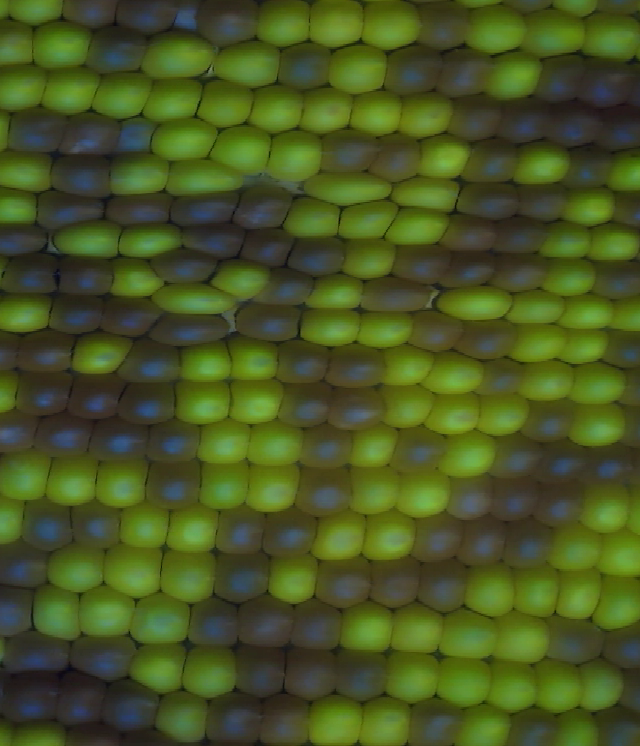fluorescent: (138, 31, 218, 80), (126, 639, 194, 695), (128, 591, 194, 647), (88, 69, 158, 121), (518, 7, 587, 59), (43, 543, 111, 595), (306, 507, 371, 561), (213, 39, 282, 89), (102, 544, 165, 598), (77, 586, 140, 639), (307, 692, 368, 746), (327, 41, 387, 95), (165, 156, 246, 196), (463, 6, 529, 55), (358, 1, 422, 51), (413, 132, 476, 182), (30, 22, 93, 72), (208, 254, 275, 301), (391, 600, 445, 658), (150, 281, 242, 315), (160, 552, 220, 604), (335, 601, 395, 653), (483, 49, 540, 103), (532, 656, 585, 714), (38, 66, 99, 116), (302, 170, 397, 202), (150, 119, 220, 162), (52, 220, 129, 259), (194, 419, 256, 467), (435, 652, 489, 707), (0, 448, 53, 504), (29, 588, 85, 641), (443, 609, 499, 662), (173, 378, 236, 425), (106, 152, 173, 196), (96, 455, 150, 509), (211, 125, 267, 177), (463, 562, 519, 614), (296, 306, 367, 347), (244, 462, 302, 512), (280, 190, 342, 236), (494, 613, 551, 663), (434, 287, 515, 322), (513, 139, 572, 187), (376, 382, 436, 429), (361, 508, 415, 560), (386, 650, 438, 704), (245, 420, 306, 466), (338, 235, 399, 281), (570, 397, 625, 448), (48, 451, 99, 506), (227, 335, 283, 385), (182, 646, 239, 695), (422, 350, 484, 395), (576, 656, 624, 714), (391, 177, 464, 215), (72, 332, 135, 376), (252, 1, 312, 47), (424, 391, 484, 437), (267, 553, 319, 606), (270, 128, 321, 182), (358, 697, 415, 745), (173, 337, 236, 380), (347, 462, 398, 515), (155, 690, 206, 743), (248, 82, 302, 132), (489, 660, 539, 714), (196, 462, 251, 511), (546, 521, 602, 569), (396, 471, 452, 519), (452, 701, 513, 745), (581, 14, 640, 59), (167, 504, 218, 556), (198, 77, 252, 126), (473, 394, 533, 438), (228, 378, 284, 425), (555, 566, 602, 622), (116, 221, 185, 259), (507, 323, 572, 363), (118, 501, 171, 550), (517, 357, 576, 401), (593, 575, 640, 630), (306, 1, 364, 45), (513, 565, 563, 616), (105, 256, 172, 294), (439, 431, 495, 476), (581, 483, 629, 535), (145, 76, 199, 122), (393, 206, 450, 249), (0, 153, 59, 194), (504, 288, 569, 325), (351, 89, 401, 137), (401, 90, 452, 137), (338, 201, 397, 241), (304, 274, 371, 309), (356, 310, 416, 349), (569, 365, 627, 405), (537, 259, 601, 295), (554, 327, 613, 365), (0, 295, 56, 334), (303, 87, 351, 132), (562, 187, 617, 226), (557, 293, 618, 328), (382, 342, 430, 386), (597, 528, 640, 577), (586, 223, 640, 261), (0, 64, 50, 105), (539, 221, 593, 258), (352, 422, 395, 468), (0, 18, 38, 64), (555, 708, 600, 746), (0, 185, 39, 225), (11, 718, 67, 745), (609, 149, 640, 195), (6, 1, 62, 26), (549, 1, 599, 16), (463, 1, 503, 7)
nonfluorescent: (182, 592, 243, 650), (313, 556, 376, 611), (0, 671, 64, 725), (115, 336, 183, 385), (0, 630, 74, 675), (381, 44, 445, 96), (326, 380, 390, 432), (203, 691, 263, 746), (66, 633, 137, 679), (333, 647, 390, 704), (497, 511, 552, 570), (404, 507, 463, 562), (294, 464, 355, 517), (4, 107, 74, 153), (542, 615, 606, 665), (413, 557, 469, 614), (102, 677, 161, 731), (234, 596, 297, 646), (261, 503, 318, 558), (212, 546, 269, 601), (144, 457, 202, 511), (283, 644, 337, 702), (458, 137, 522, 185), (13, 329, 79, 375), (324, 340, 387, 388), (21, 493, 73, 551), (57, 670, 107, 730), (317, 131, 385, 175), (579, 54, 632, 110), (357, 275, 435, 313), (87, 415, 154, 459), (271, 336, 332, 384), (168, 189, 243, 228), (114, 380, 182, 423), (258, 692, 312, 746), (70, 496, 123, 551), (14, 368, 76, 415), (435, 46, 492, 97), (292, 598, 345, 652), (446, 95, 508, 141), (62, 108, 121, 156), (367, 131, 426, 179), (33, 188, 107, 226), (235, 644, 287, 698), (66, 368, 122, 418), (369, 554, 419, 610), (0, 250, 62, 295), (235, 300, 303, 341), (212, 502, 266, 553), (50, 152, 114, 195), (147, 311, 233, 343), (33, 413, 97, 456), (496, 93, 551, 143), (147, 246, 221, 283), (87, 27, 144, 75), (195, 1, 257, 45), (458, 317, 520, 361), (532, 51, 585, 102), (488, 431, 543, 480), (457, 511, 506, 566), (277, 42, 333, 90), (391, 239, 452, 283), (548, 100, 605, 147), (54, 256, 117, 298), (0, 539, 54, 588), (415, 1, 471, 48), (102, 293, 158, 340), (391, 426, 447, 473), (246, 268, 321, 303), (285, 234, 349, 275), (146, 418, 203, 464), (406, 699, 461, 746), (233, 186, 296, 227), (411, 307, 468, 352), (456, 179, 521, 218), (581, 441, 636, 487), (559, 145, 615, 190), (181, 221, 249, 258), (279, 380, 332, 427), (488, 251, 550, 291), (105, 191, 174, 226), (539, 438, 590, 485), (300, 423, 353, 468), (487, 477, 541, 521), (506, 705, 565, 745), (448, 472, 496, 521), (437, 212, 497, 251), (524, 396, 576, 441), (48, 291, 102, 334), (440, 245, 492, 289), (532, 482, 585, 525), (243, 224, 298, 265), (587, 259, 640, 300), (0, 584, 39, 637), (493, 216, 545, 255), (601, 618, 640, 670), (114, 1, 177, 33), (475, 356, 524, 397), (590, 705, 640, 745), (601, 102, 640, 150), (0, 411, 42, 454), (517, 182, 566, 218), (599, 324, 640, 367), (0, 223, 50, 256), (60, 722, 123, 745), (60, 1, 119, 23), (120, 729, 171, 746), (594, 1, 640, 15), (501, 1, 551, 11)
